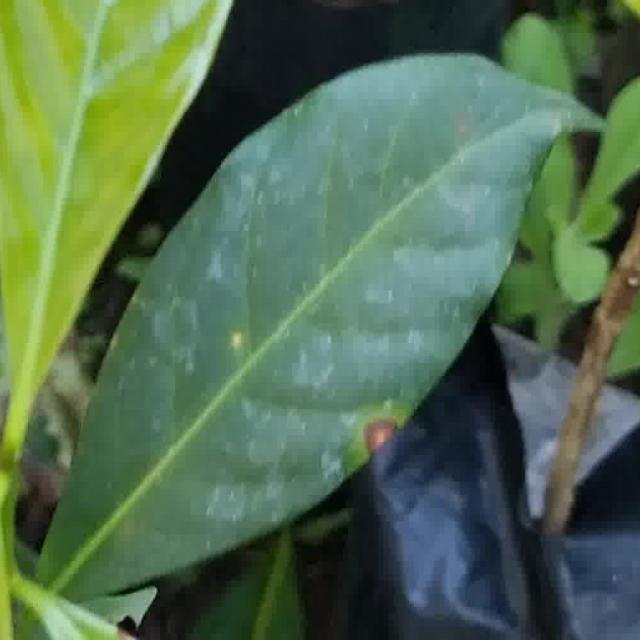leaves: (0, 0, 615, 640)
